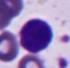L: (18, 17, 54, 53)
